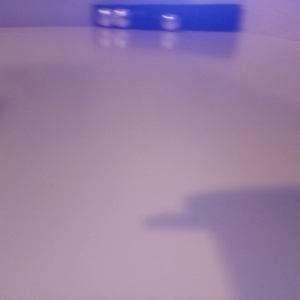alive_ball: (175, 9, 219, 55)
